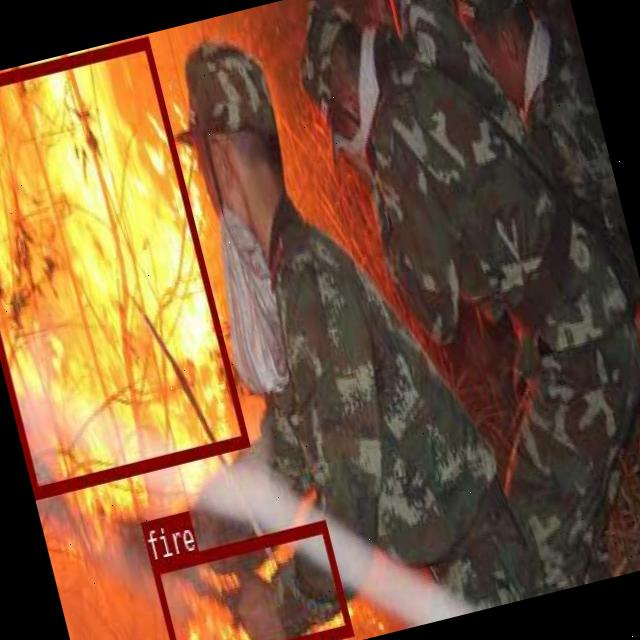fire: (0, 36, 249, 497), (149, 519, 351, 640)
